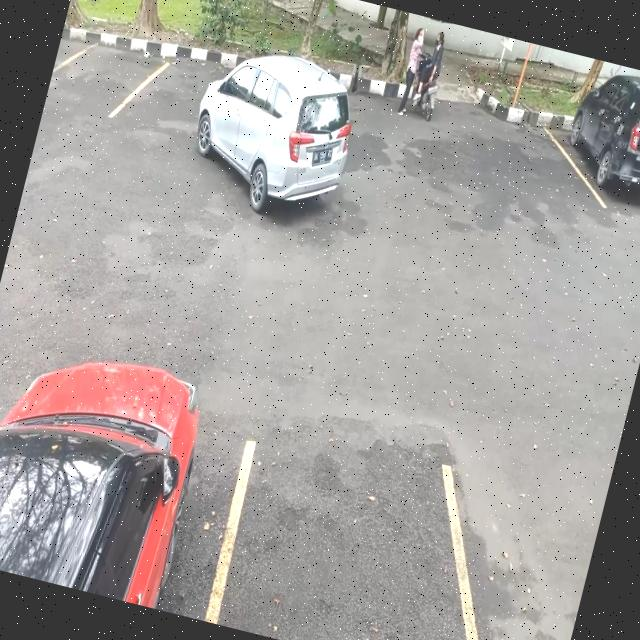empty: (207, 408, 494, 640), (45, 13, 167, 125)
occupied: (553, 73, 640, 220)
